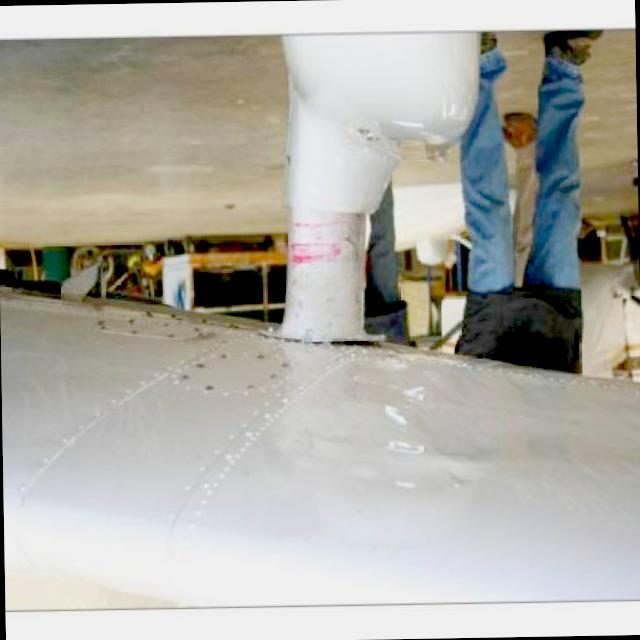dent: (382, 427, 434, 462)
